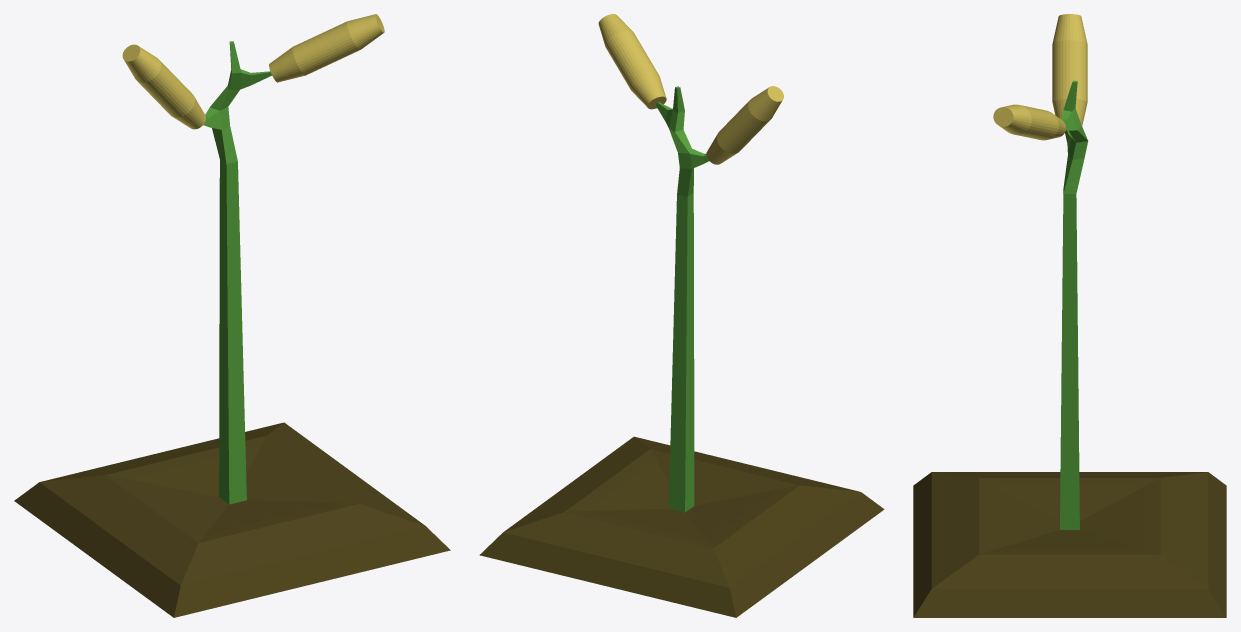
Rendered from fa_plantedA_100.glb.
The picture shows the model from 3 angles, left to right: view 1: azimuth 30°, elevation 25°; view 2: azimuth 150°, elevation 25°; view 3: azimuth 270°, elevation 25°; orthographic projection. The views are drawn at different scales.
Parts seen in each view (by area): view 1: farmingArea_planted_100; view 2: farmingArea_planted_100; view 3: farmingArea_planted_100.
Boxes of the visible parts, x1,y1,x2,y2 form: farmingArea_planted_100: (14,14,450,617); farmingArea_planted_100: (479,14,884,617); farmingArea_planted_100: (913,14,1226,617).
Bounding box in the file's own units: 0.8 × 1.4 × 0.8.
